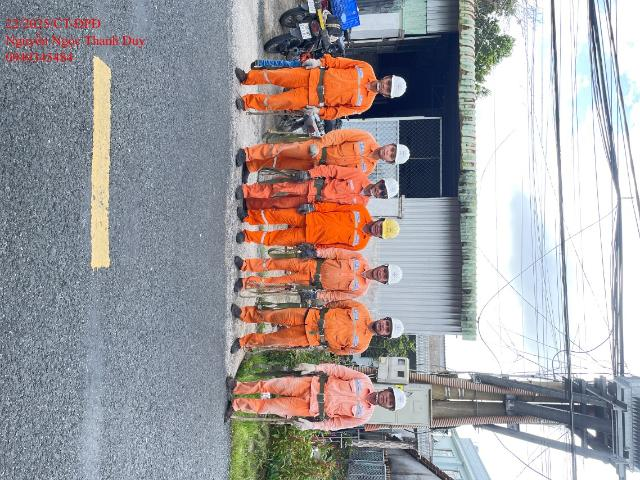gloves: (289, 413, 314, 440), (283, 167, 314, 185), (294, 362, 319, 376), (295, 248, 323, 260), (302, 58, 322, 73), (297, 204, 320, 217), (306, 139, 318, 161), (306, 103, 321, 120), (316, 296, 329, 315), (300, 240, 319, 250), (305, 290, 316, 301)
harness: (316, 380, 330, 426), (319, 68, 330, 111), (317, 309, 331, 342), (313, 258, 323, 289), (316, 181, 325, 201), (321, 148, 329, 164)
helmet: (384, 378, 420, 427), (387, 69, 411, 108), (384, 314, 408, 353), (383, 259, 405, 298), (382, 216, 404, 244), (382, 176, 401, 203), (396, 141, 411, 170)
shoes: (222, 373, 244, 399), (234, 93, 255, 112), (225, 397, 237, 429), (238, 193, 253, 218), (229, 300, 245, 323), (234, 228, 254, 245), (237, 203, 251, 227), (230, 337, 246, 358), (233, 64, 248, 85), (236, 146, 249, 167), (234, 255, 248, 274), (232, 279, 248, 295), (230, 181, 245, 196), (241, 162, 250, 185)
